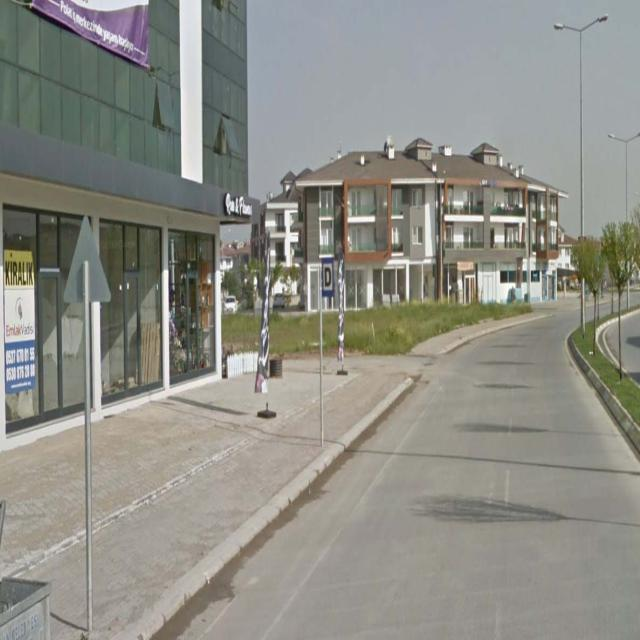durak: (321, 256, 334, 298)
